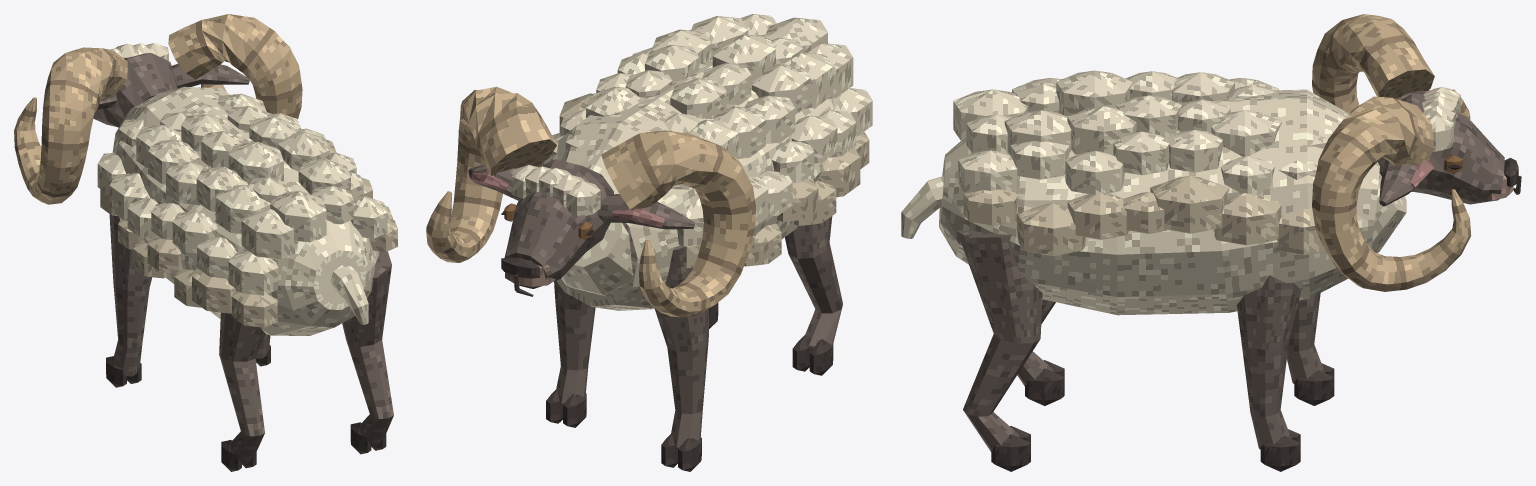
The model's file is mon_sheep.glb.
3 views of the same model, side by side, from view 1: azimuth 30°, elevation 25°; view 2: azimuth 150°, elevation 25°; view 3: azimuth 270°, elevation 25° (orthographic). The views are drawn at different scales.
Visible parts, largest first — view 1: closed_body; view 2: closed_body; view 3: closed_body.
Boxes of the visible parts, left/top/right/bottom form: closed_body: left=14, top=14, right=397, bottom=471; closed_body: left=426, top=14, right=872, bottom=471; closed_body: left=901, top=14, right=1521, bottom=471.
Bounding box in the file's own units: 0.7392 × 0.8746 × 1.32.
Materials: 1 (1 with a texture image).
